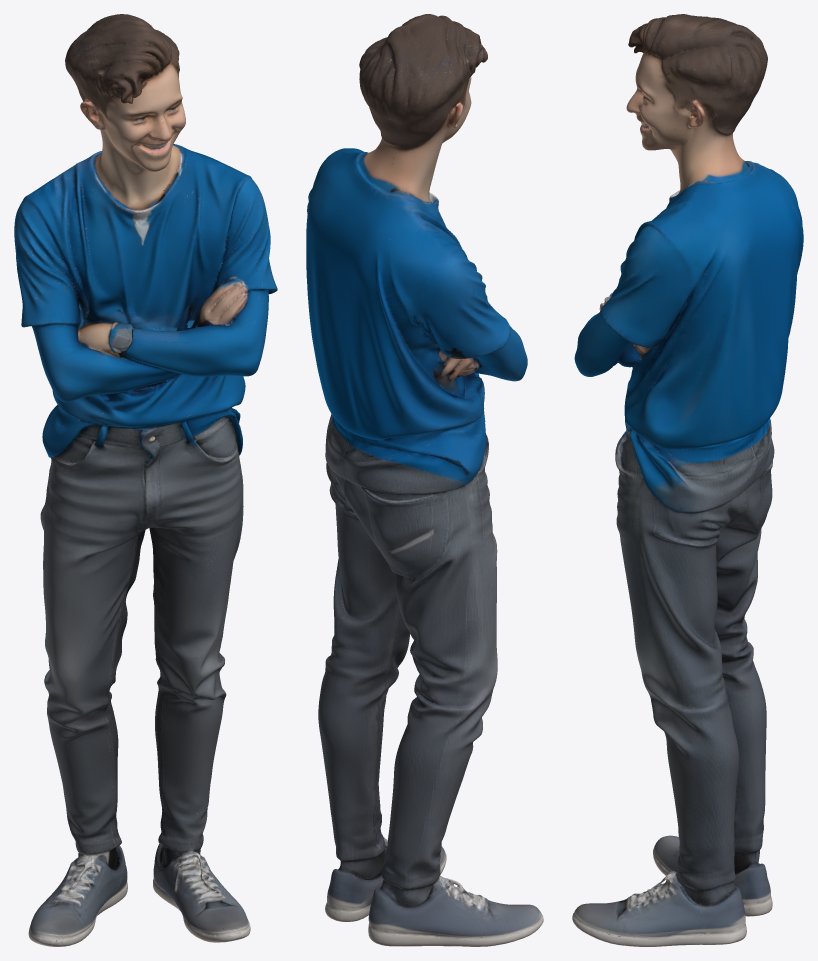
Rendered from aa nyengir.glb.
3 views of the same model, side by side, from view 1: azimuth 30°, elevation 25°; view 2: azimuth 150°, elevation 25°; view 3: azimuth 270°, elevation 25° (orthographic).
Bounding box in the file's own units: 0.52 × 2 × 0.4706.
Materials: 1 (1 with a texture image).
